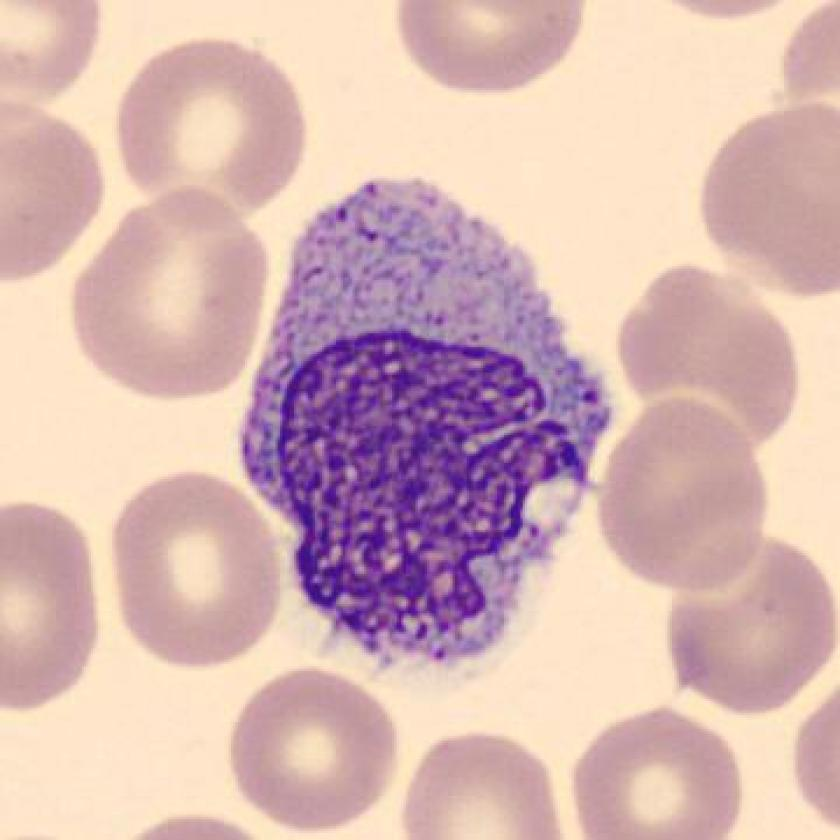monocyte: (225, 154, 631, 695)
